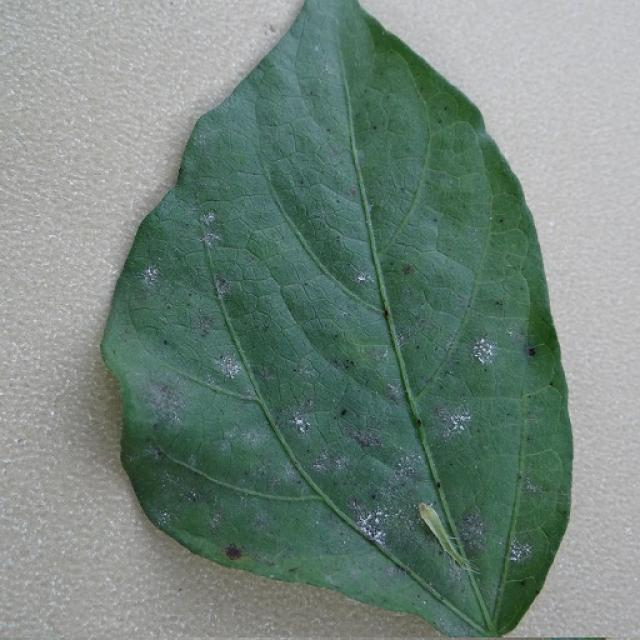Blackgram: (102, 0, 571, 635)
Powdery_Mildew: (449, 495, 503, 561), (347, 495, 404, 553), (146, 386, 195, 443), (426, 396, 476, 439), (191, 203, 229, 253), (385, 439, 427, 484), (132, 254, 168, 296), (210, 342, 246, 383), (472, 338, 506, 380), (310, 445, 353, 478), (282, 413, 320, 442), (350, 259, 384, 289), (509, 529, 534, 569), (202, 504, 227, 535), (514, 472, 540, 501)
